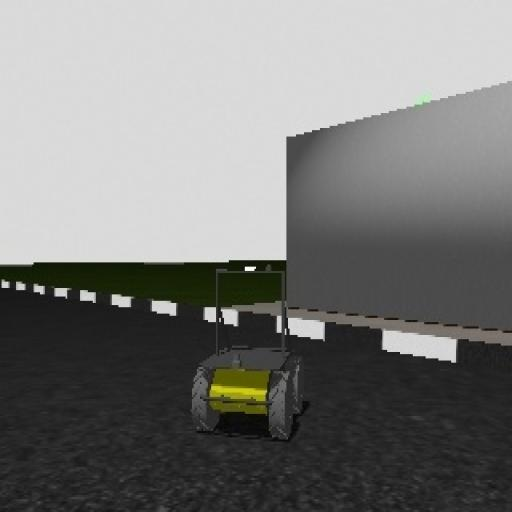huskya200: (176, 268, 310, 441)
